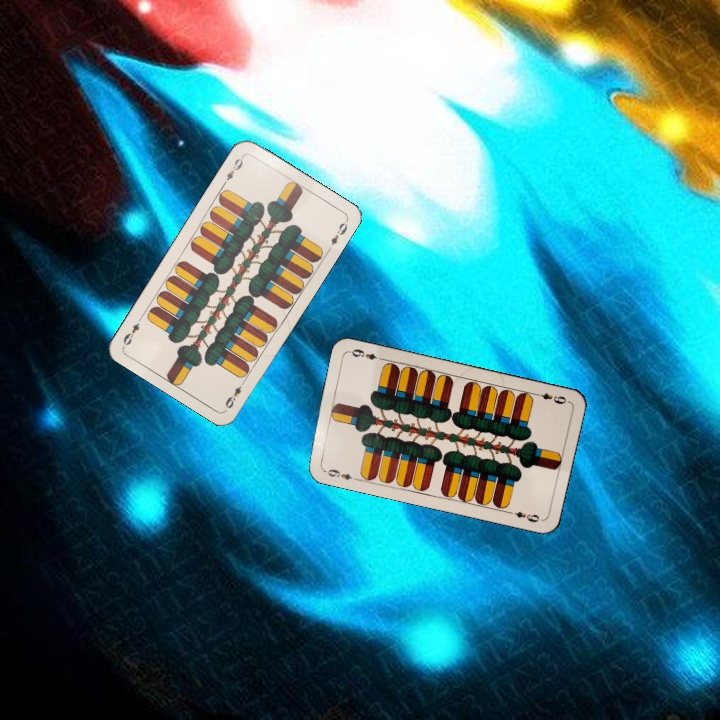E9: (219, 152, 246, 188), (221, 376, 248, 411), (530, 388, 571, 407), (319, 465, 359, 483)
